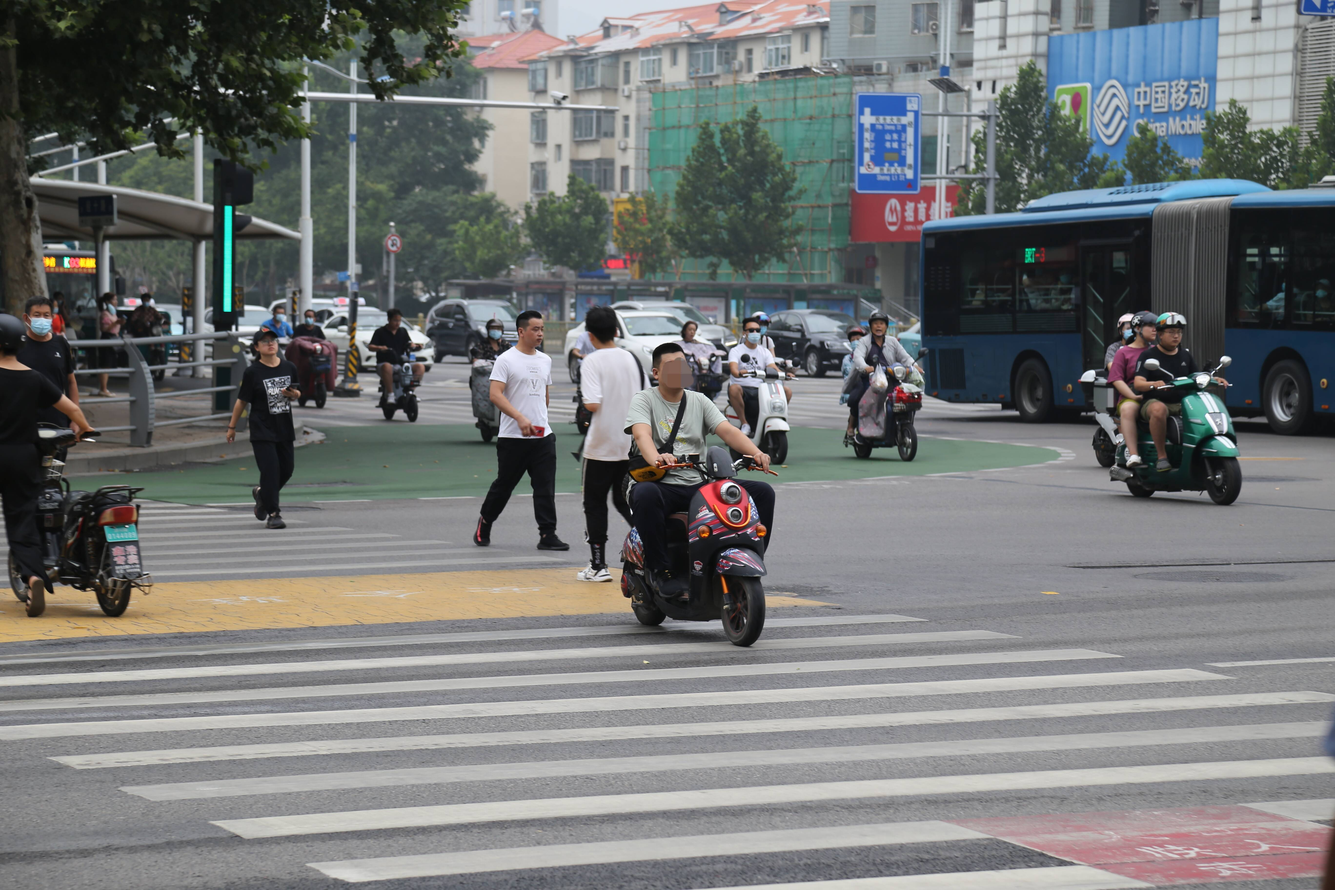bus: (931, 187, 1325, 440)
motorbike: (598, 382, 776, 642), (1038, 366, 1251, 496), (18, 428, 157, 613), (1092, 333, 1220, 505), (825, 370, 949, 467)
person: (602, 351, 774, 629), (473, 308, 596, 569), (535, 306, 641, 586), (1, 315, 93, 615), (1092, 333, 1220, 505), (228, 308, 304, 490), (747, 292, 888, 382), (428, 291, 567, 382), (321, 297, 438, 378), (23, 293, 95, 422), (855, 319, 921, 453), (718, 331, 790, 450), (354, 313, 424, 421), (585, 312, 688, 382), (129, 294, 193, 395), (99, 286, 116, 377)
